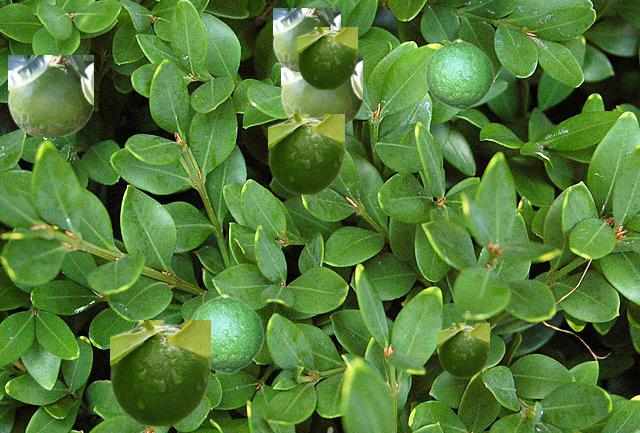dalandan: (110, 320, 209, 426), (8, 55, 92, 135), (268, 114, 343, 194), (281, 53, 361, 126), (190, 293, 263, 373), (424, 38, 493, 109), (273, 8, 339, 70), (297, 27, 356, 89), (438, 323, 488, 377)
